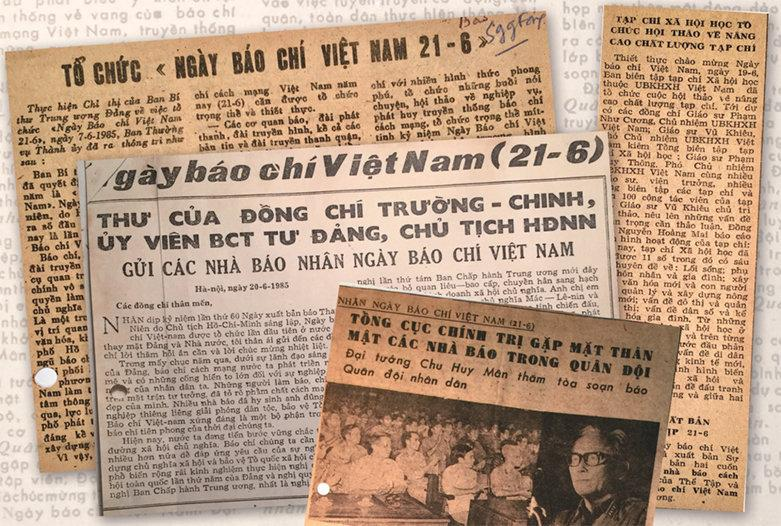paper: (6, 8, 767, 526)
